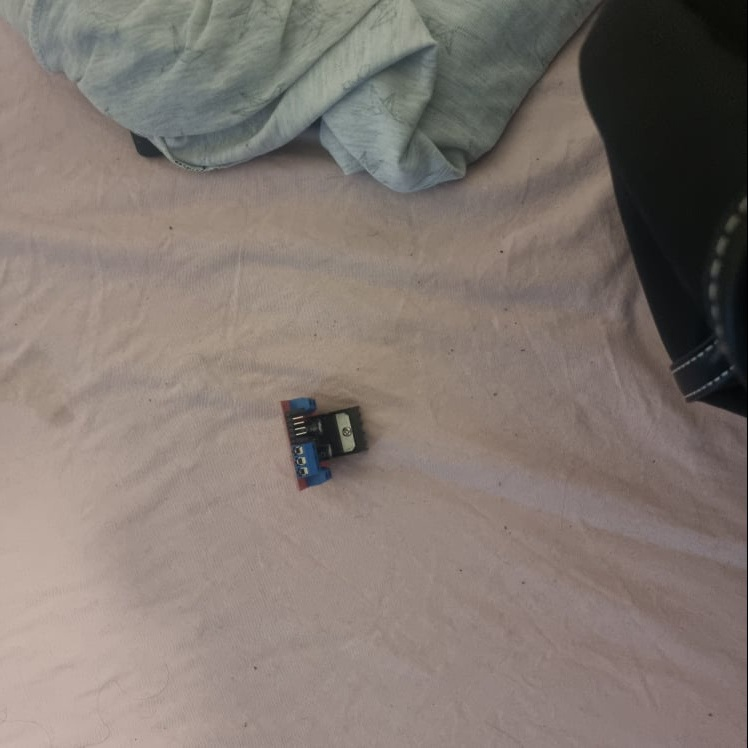MOTOR: (277, 390, 370, 492)
